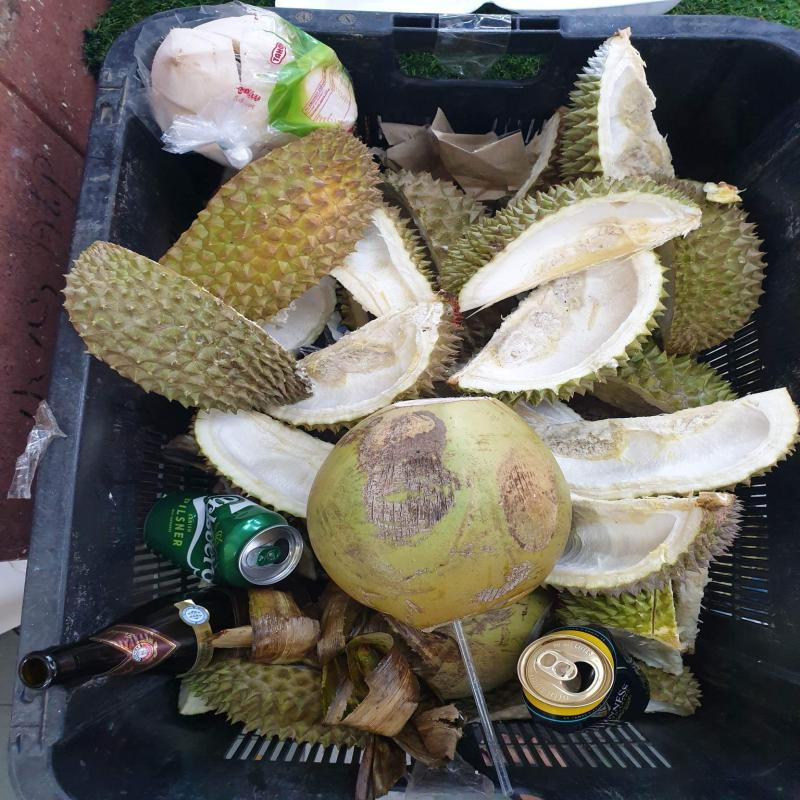aluminum: (143, 495, 303, 589), (517, 626, 649, 725)
fruit peels: (305, 397, 572, 634), (157, 128, 383, 324), (61, 241, 314, 416), (440, 177, 703, 311), (446, 251, 670, 407), (529, 388, 800, 497), (270, 302, 464, 438), (542, 491, 746, 597), (651, 179, 768, 357), (556, 27, 674, 184), (177, 657, 358, 748), (194, 409, 335, 522), (556, 567, 711, 655), (329, 206, 441, 318), (594, 346, 739, 417), (462, 586, 550, 693), (379, 169, 474, 262), (636, 661, 703, 718), (431, 626, 472, 700)
glass bottle: (18, 586, 251, 690)
plastic straw: (452, 619, 514, 797)
